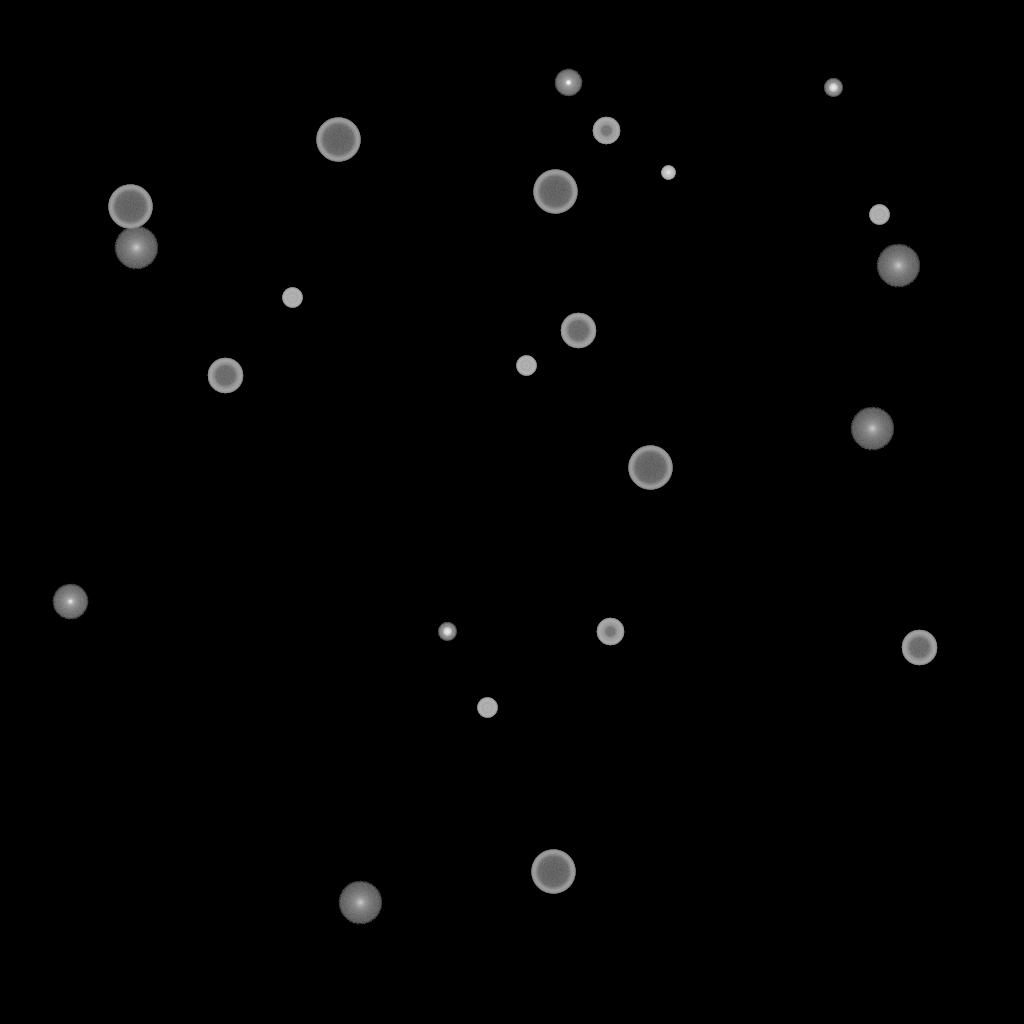depth:-10: (554, 69, 582, 97)
depth:-20: (824, 79, 842, 97), (438, 623, 456, 641)
depth:-30: (661, 166, 675, 180)
depth:-40: (282, 288, 302, 308), (869, 205, 889, 225), (477, 698, 497, 718), (516, 356, 536, 376)
depth:-50: (592, 117, 620, 145), (596, 618, 624, 646)
depth:-60: (560, 313, 596, 349), (207, 358, 243, 394), (901, 630, 937, 666)
depth:-70: (533, 170, 577, 214), (108, 185, 152, 229), (628, 446, 672, 490), (531, 850, 575, 894), (316, 118, 360, 162)
depth:0: (52, 584, 88, 620)
depth:10: (876, 244, 920, 288), (338, 881, 382, 925), (114, 226, 158, 270), (850, 407, 894, 451)
